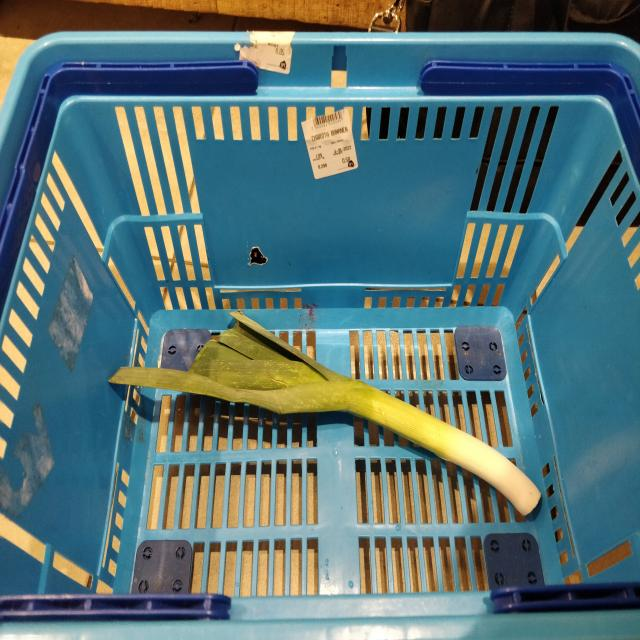leek: (108, 321, 542, 514)
